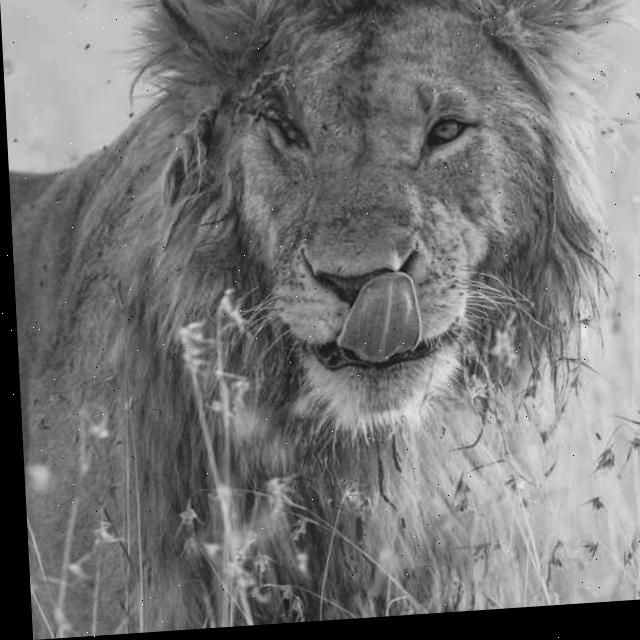Lion: (107, 0, 606, 592)
